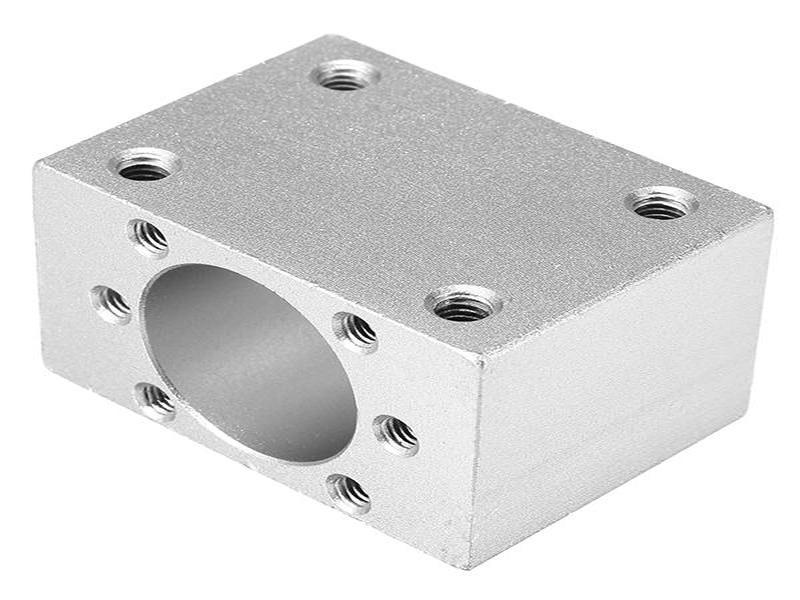hole: (422, 280, 507, 325), (621, 183, 703, 223), (106, 145, 185, 185), (307, 57, 383, 95), (328, 307, 382, 360), (369, 413, 421, 460), (323, 472, 374, 519), (86, 280, 134, 329), (123, 215, 172, 262), (131, 380, 179, 425)
